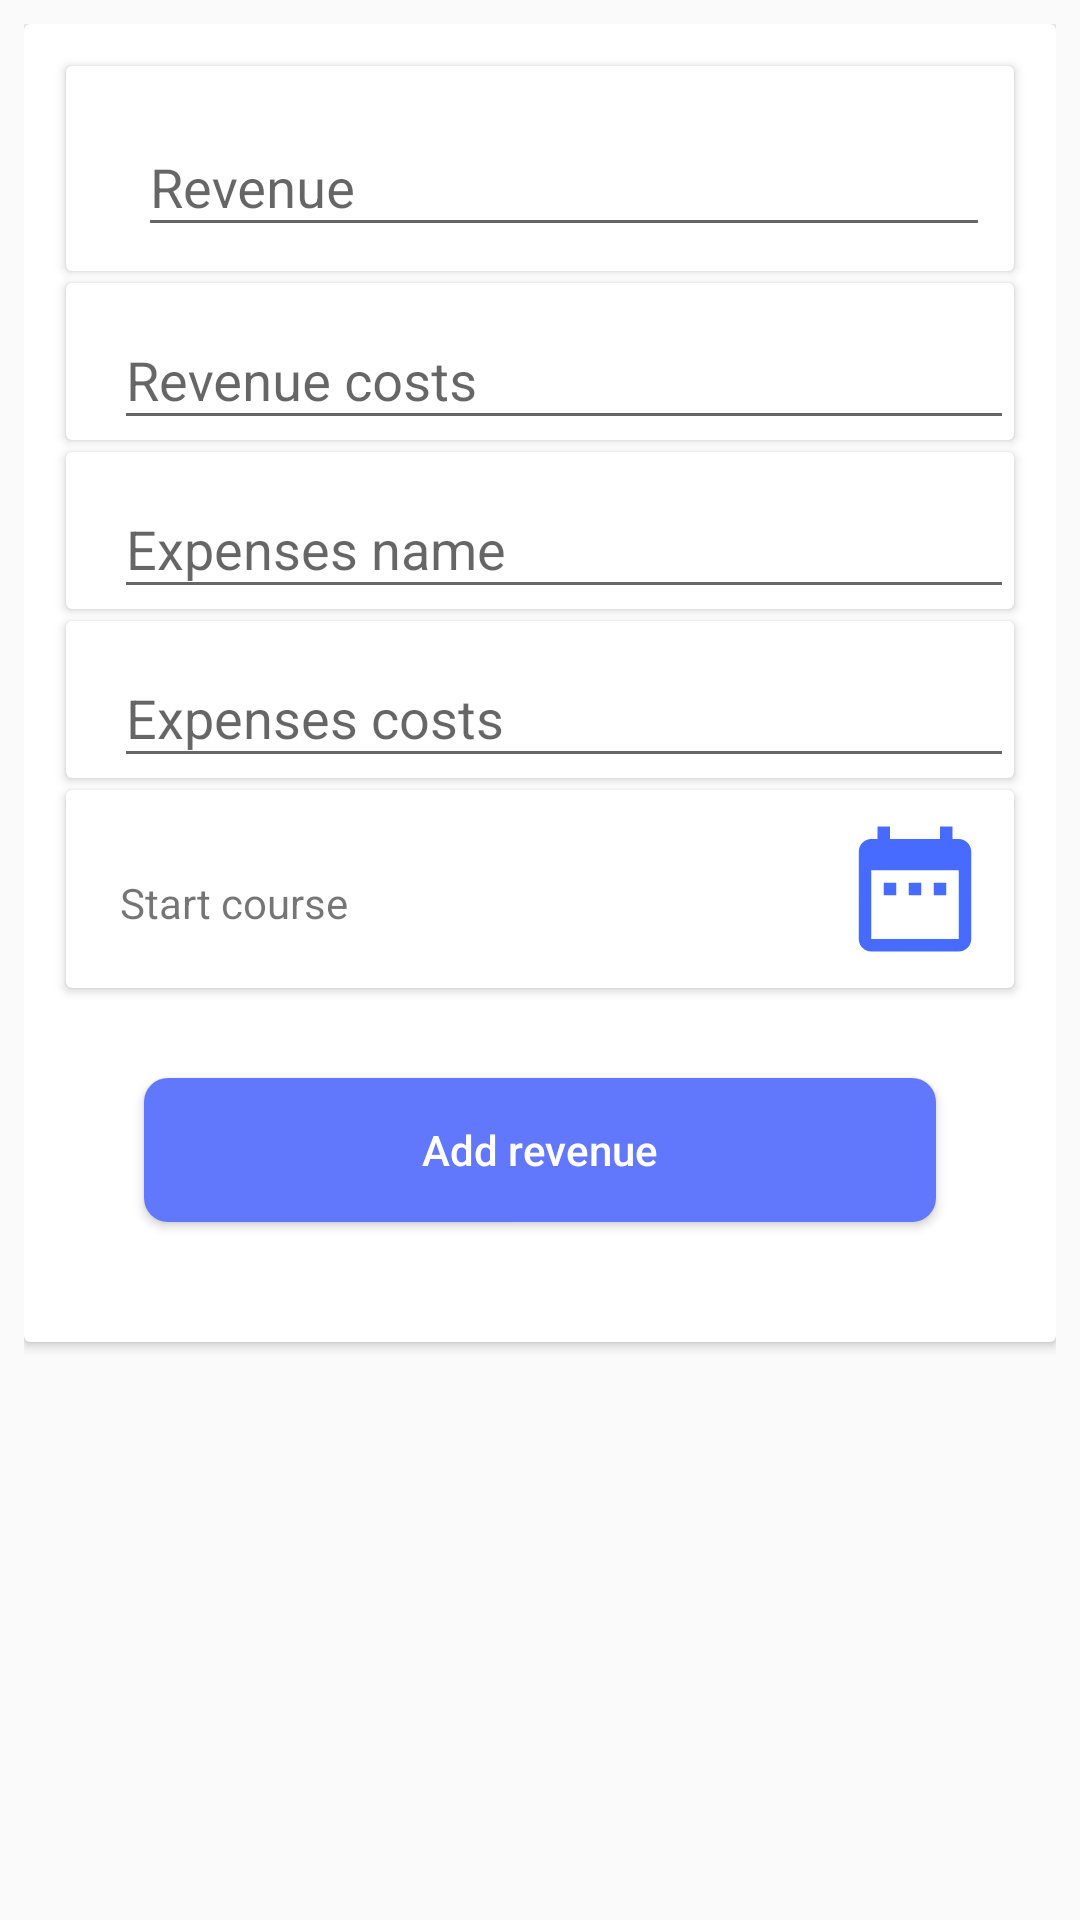

Where to tap for icons on this 1080x1920 app screen, as (x=x, y=y):
date range: (x=915, y=889)
